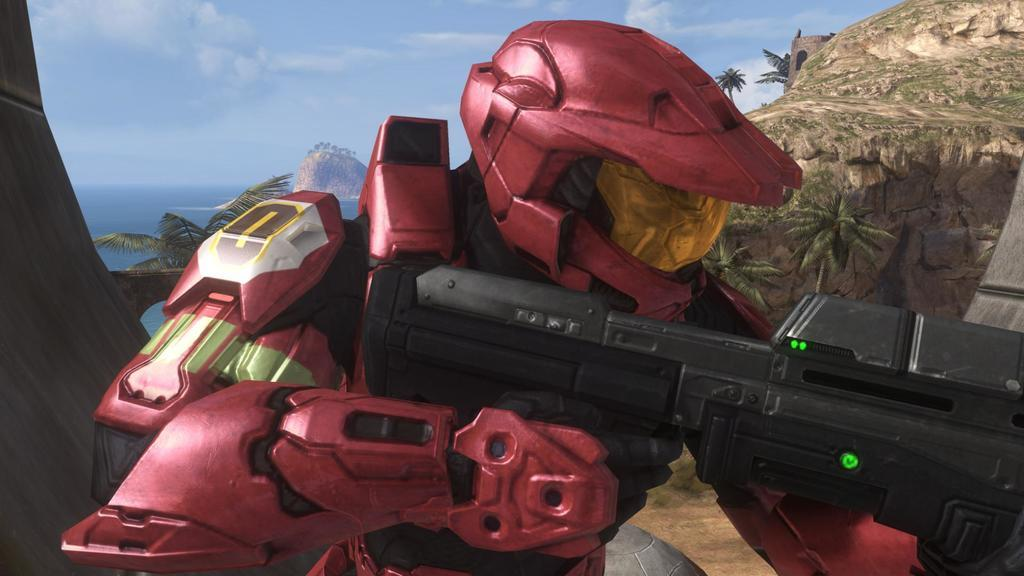Rifle: (363, 262, 1023, 575)
